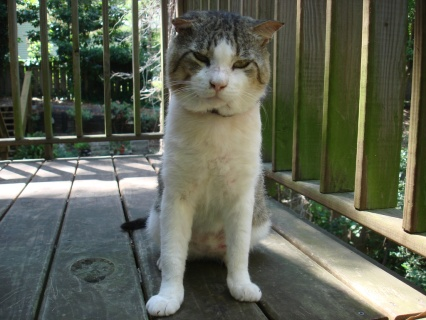Cat: (119, 8, 282, 315)
